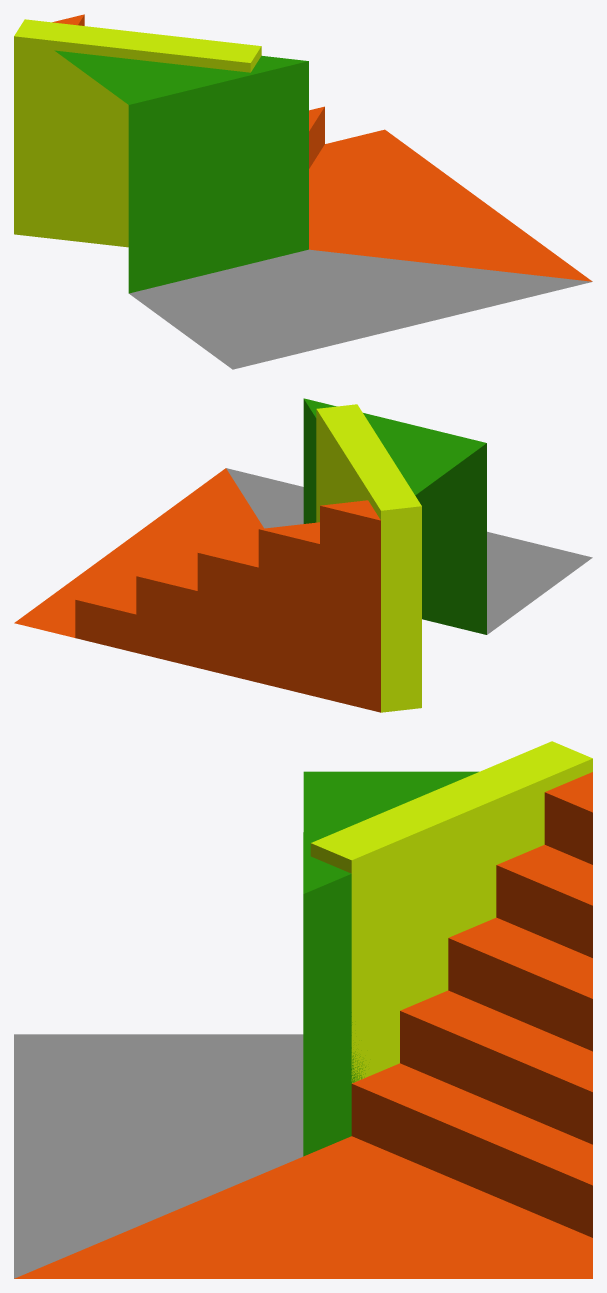
The picture shows the model from 3 angles, top to bottom: view 1: azimuth 30°, elevation 25°; view 2: azimuth 150°, elevation 25°; view 3: azimuth 270°, elevation 25°; orthographic projection. The views are drawn at different scales.
Visible parts, largest first — view 1: T_2_c_0; view 2: T_2_c_0; view 3: T_2_c_0.
Boxes of the visible parts, bbox=[...] form: T_2_c_0: bbox=[14, 14, 592, 369]; T_2_c_0: bbox=[14, 398, 592, 712]; T_2_c_0: bbox=[14, 741, 592, 1278].
Bounding box in the file's own units: 107 × 52.45 × 99.81.
